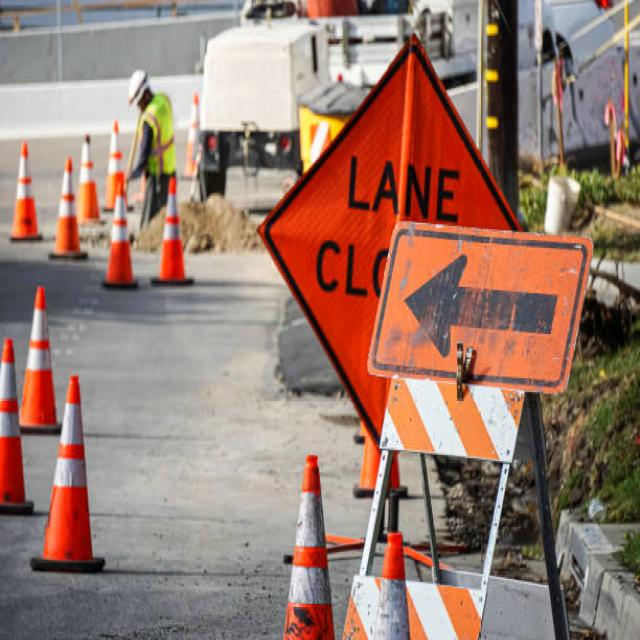Traffic Cone: (26, 364, 109, 574), (9, 279, 66, 444), (151, 169, 195, 300), (48, 153, 94, 274), (104, 166, 140, 302), (6, 143, 43, 249)
